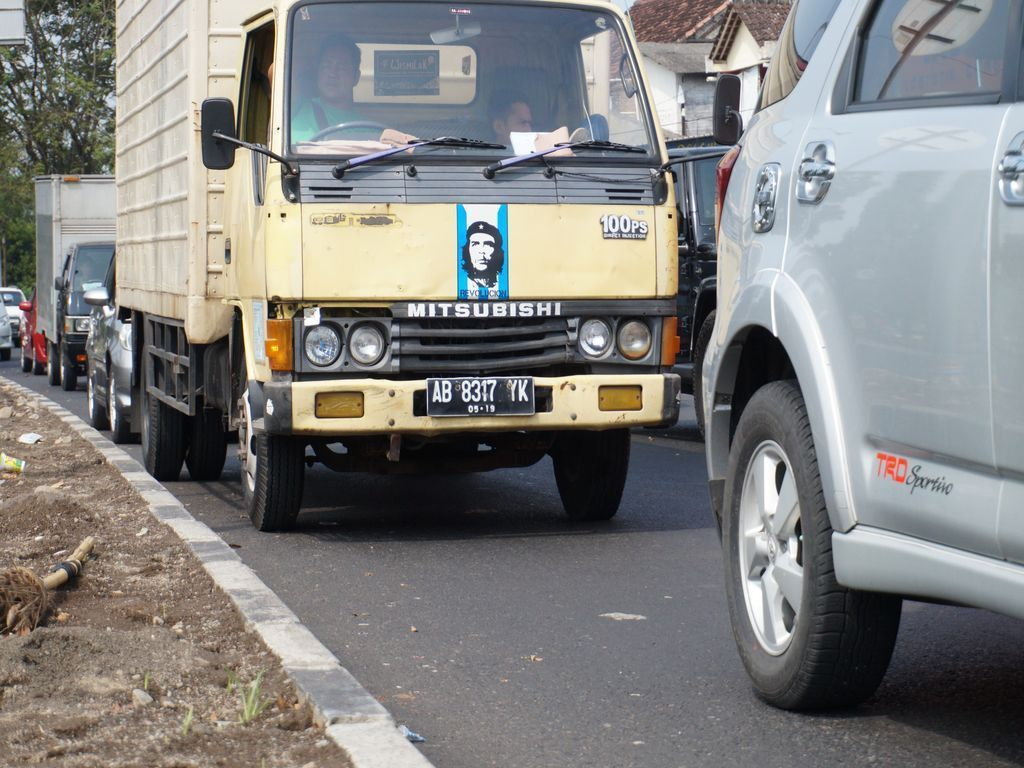plate: (431, 380, 529, 411)
